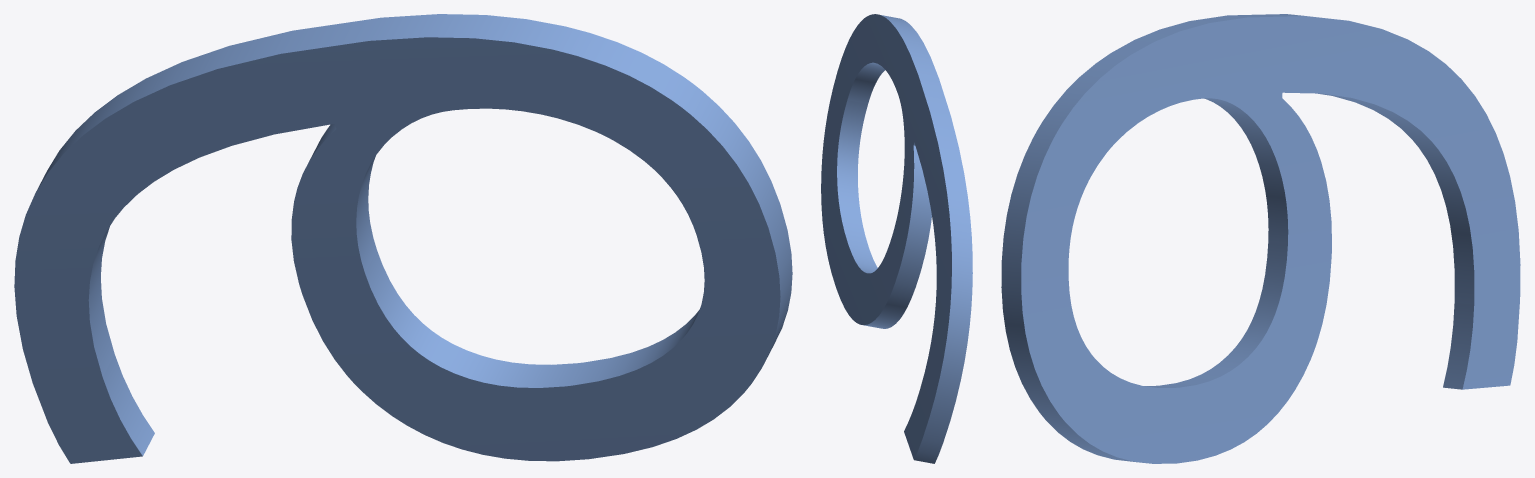
The model's file is New_Number_9.gltf.
The picture shows the model from 3 angles, left to right: view 1: azimuth 30°, elevation 25°; view 2: azimuth 150°, elevation 25°; view 3: azimuth 270°, elevation 25°; orthographic projection. The views are drawn at different scales.
Visible parts, largest first — view 1: Part 387; view 2: Part 387; view 3: Part 387.
Part boxes in pixels (box(x1,y1,x2,y2)): Part 387: box(14, 14, 792, 463); Part 387: box(821, 14, 972, 463); Part 387: box(1001, 14, 1520, 463).
Size of the model in its own units: 0.00406 by 0.00401 by 0.00419.
